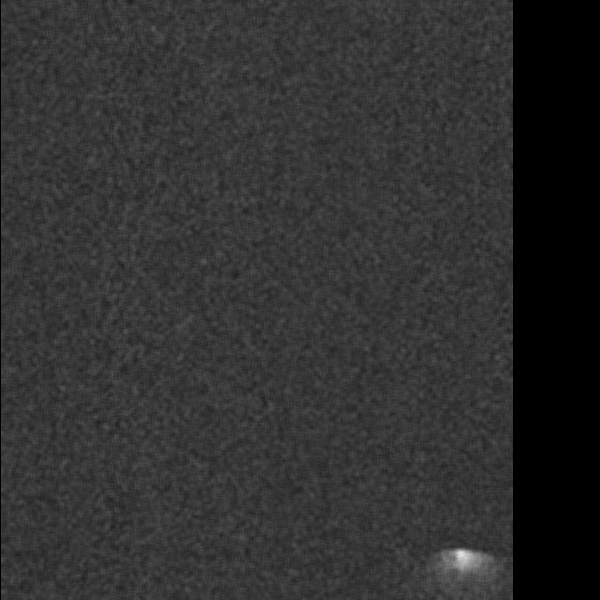spark: (435, 545, 490, 600)
